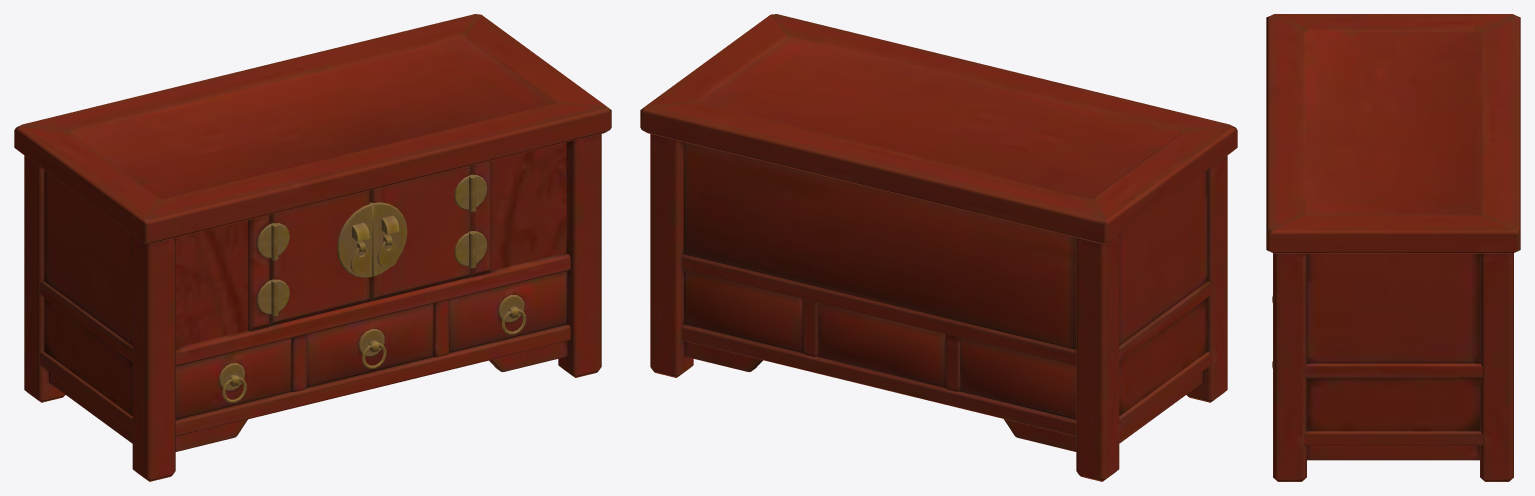
3 renders of one model, left to right at view 1: azimuth 30°, elevation 25°; view 2: azimuth 150°, elevation 25°; view 3: azimuth 270°, elevation 25°, orthographic. The views are drawn at different scales.
Size of the model in its own units: 18.04 by 9.82 by 8.87.
Materials: 1 (1 with a texture image).
